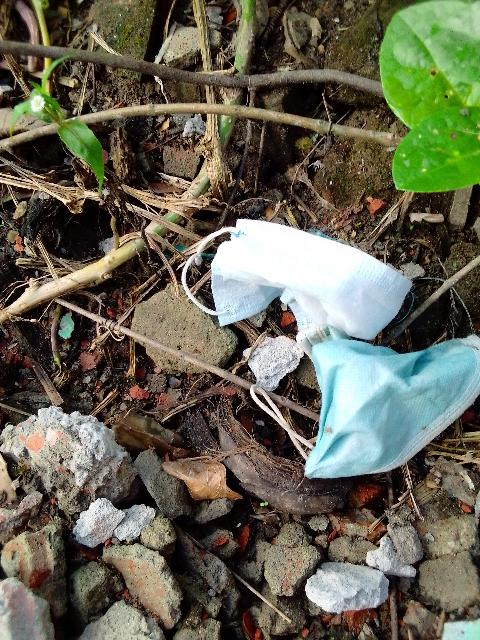mask: (297, 331, 480, 477), (223, 217, 404, 312)
